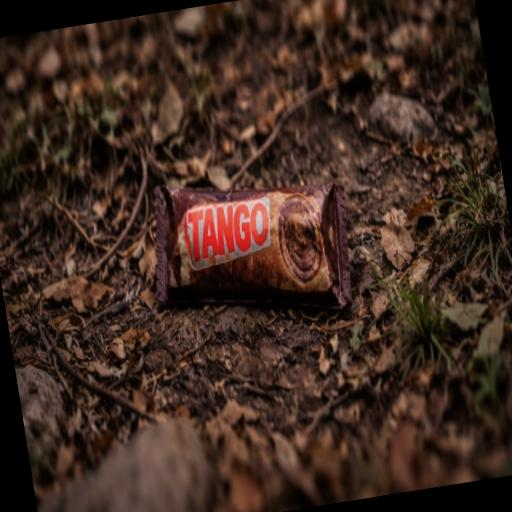tango: (116, 98, 394, 432)
